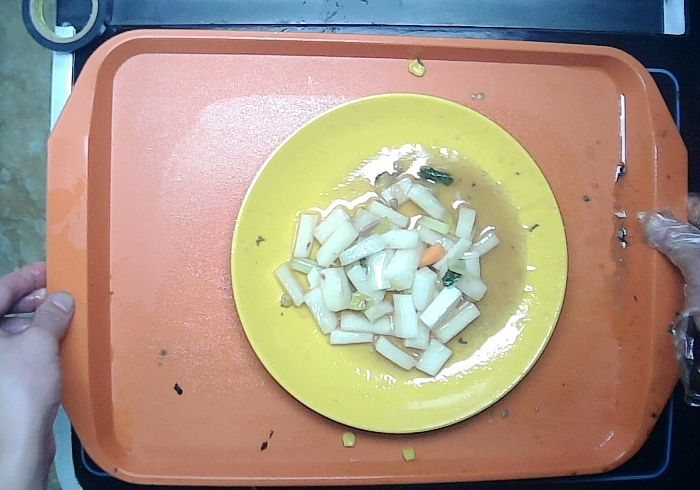HZYJPL-Huang_Se_Yuan_Pan: (228, 93, 570, 434)
